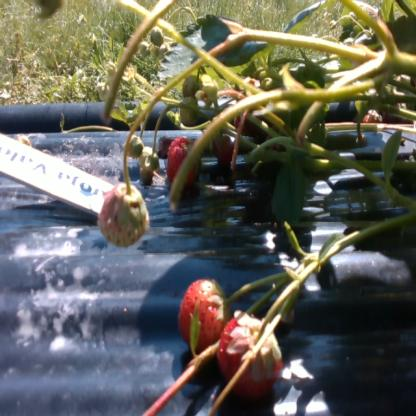ripe: (222, 320, 285, 388), (175, 282, 227, 352), (164, 140, 201, 185)
unripe: (99, 190, 149, 245)
